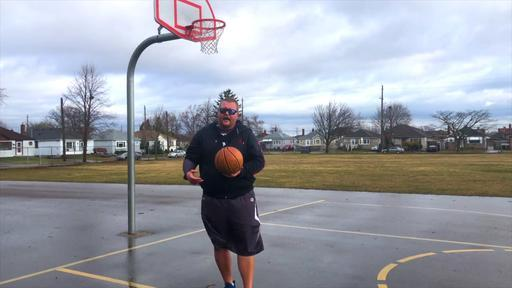ball: (214, 146, 244, 175)
human: (182, 98, 264, 288)
rim: (188, 18, 226, 54)
